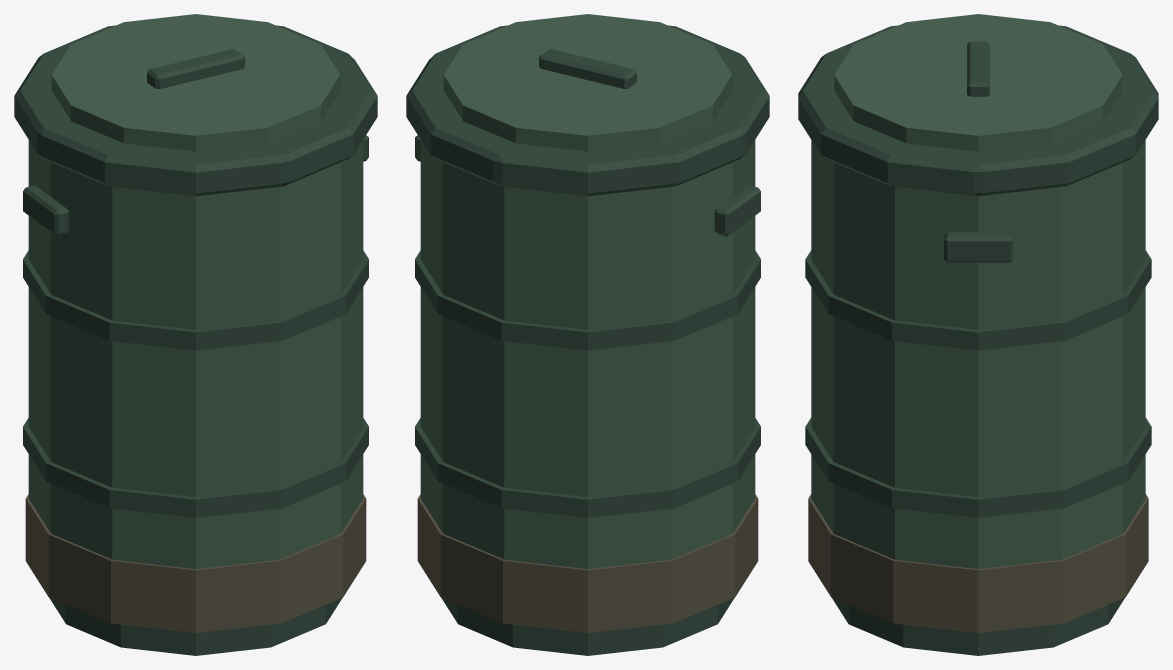
The model's file is trash_can.glb.
The picture shows the model from 3 angles, left to right: view 1: azimuth 30°, elevation 25°; view 2: azimuth 150°, elevation 25°; view 3: azimuth 270°, elevation 25°; orthographic projection.
Parts seen in each view (by area): view 1: trash_can; view 2: trash_can; view 3: trash_can.
Part boxes in pixels (x1,y1,x2,y2): trash_can: (14, 14, 377, 655); trash_can: (406, 14, 769, 655); trash_can: (798, 14, 1158, 655).
Bounding box in the file's own units: 0.63 × 1.01 × 0.6248.
